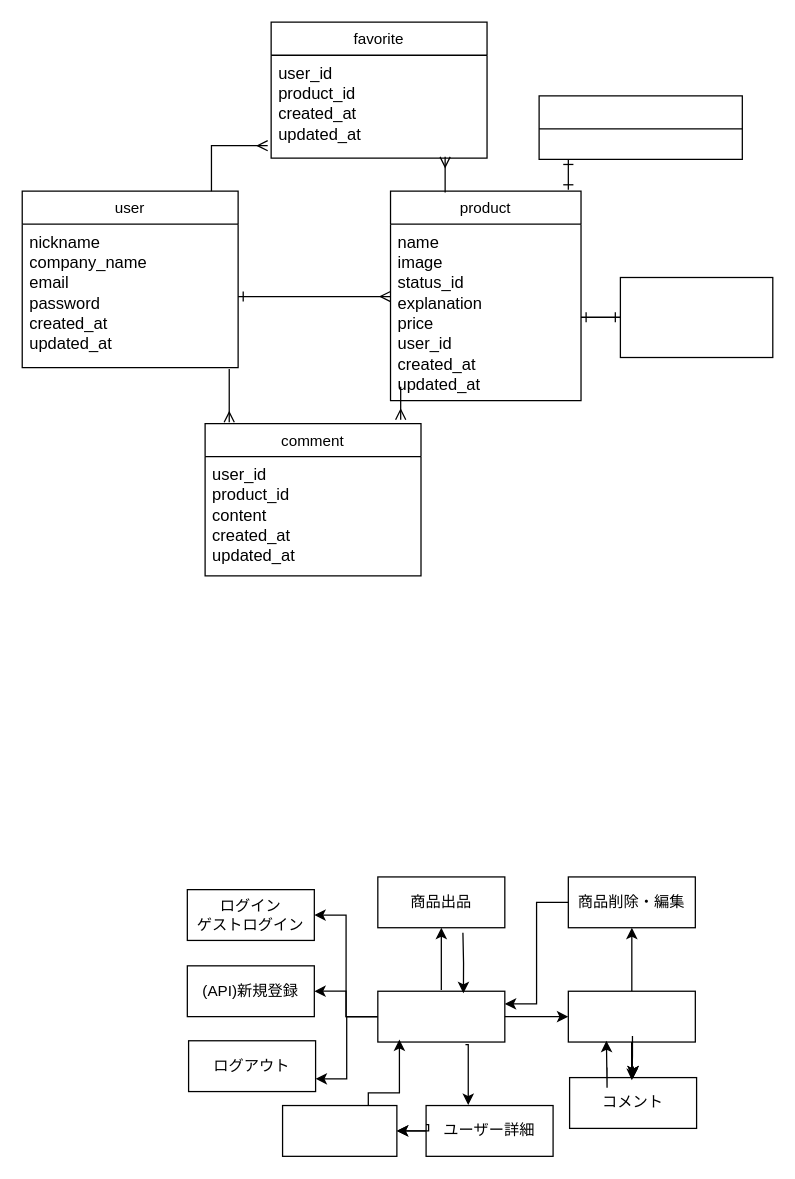
Some shapes in this 795 by 1179 pixel diagram are drawn without their labels. The centre of each missing label's shape, as x and y in pixels:
"status" goes at point 640,127.
"※ imageはActive Strageで保存" goes at point 696,317.
"トップページ 製品一覧" goes at point 441,1016.
"ユーザー編集・削除" goes at point 339,1130.
"商品詳細" goes at point 631,1016.
